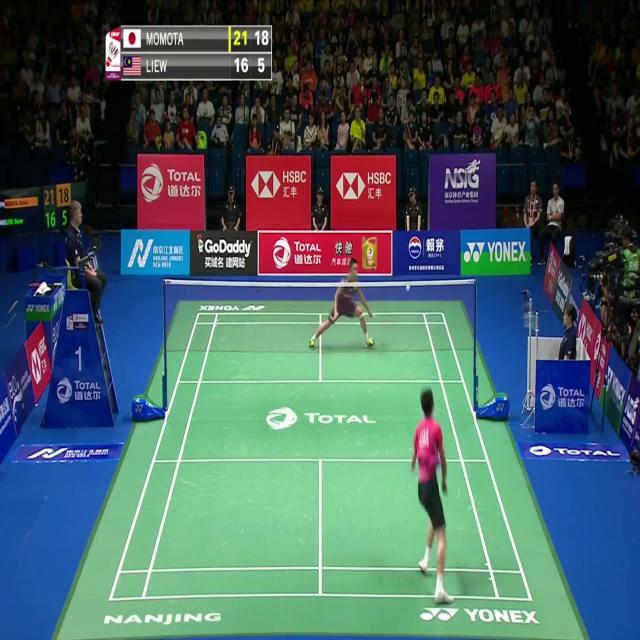Shuttlecock: (404, 281, 411, 293)
